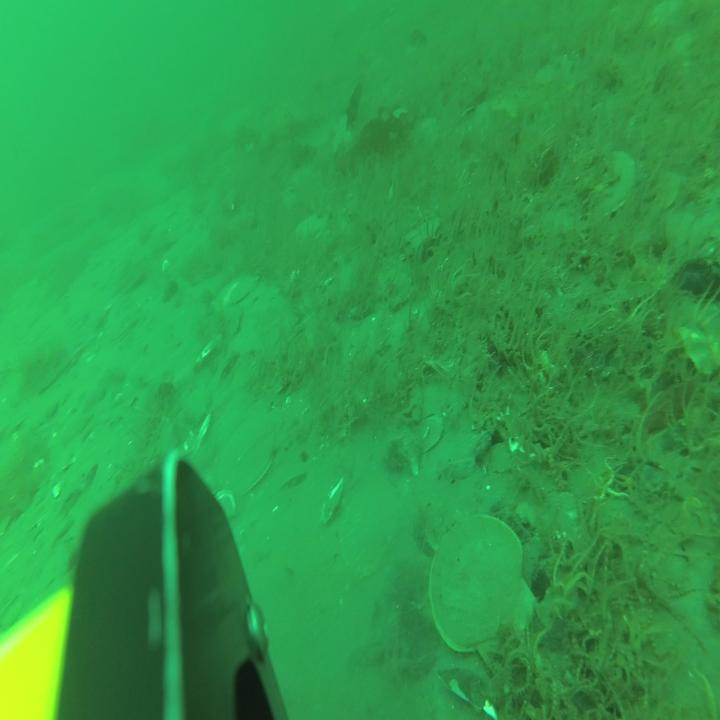scallop: (428, 512, 535, 674), (343, 476, 404, 578), (219, 409, 282, 495), (596, 148, 636, 218), (218, 272, 259, 308), (295, 216, 327, 246)
